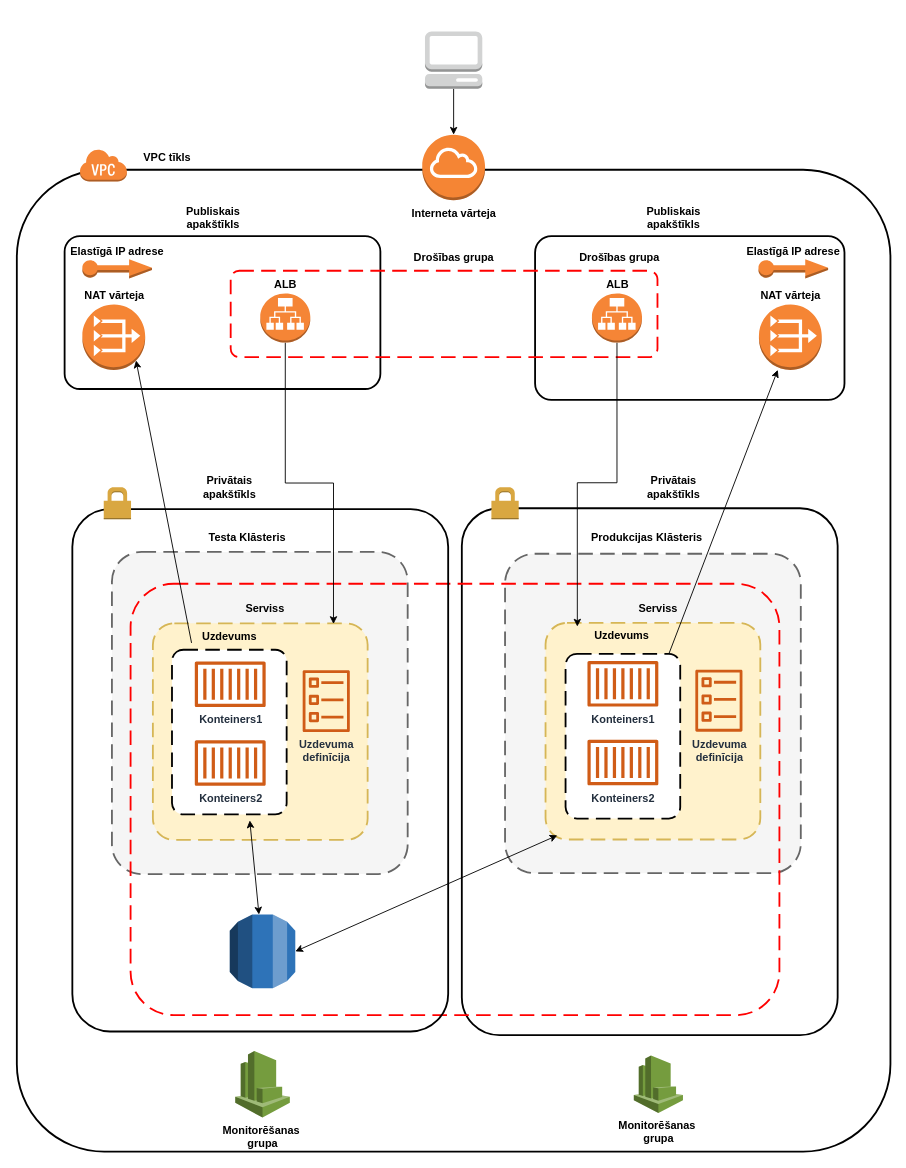
This 906x1168 diagram has some shape labels left out. The shapes that lost their labels are listed below. From the top down, each one's centre as x and y in pixels, then its label:
the point at 453,59: Klients
the point at 262,951: MySQL datubāze
